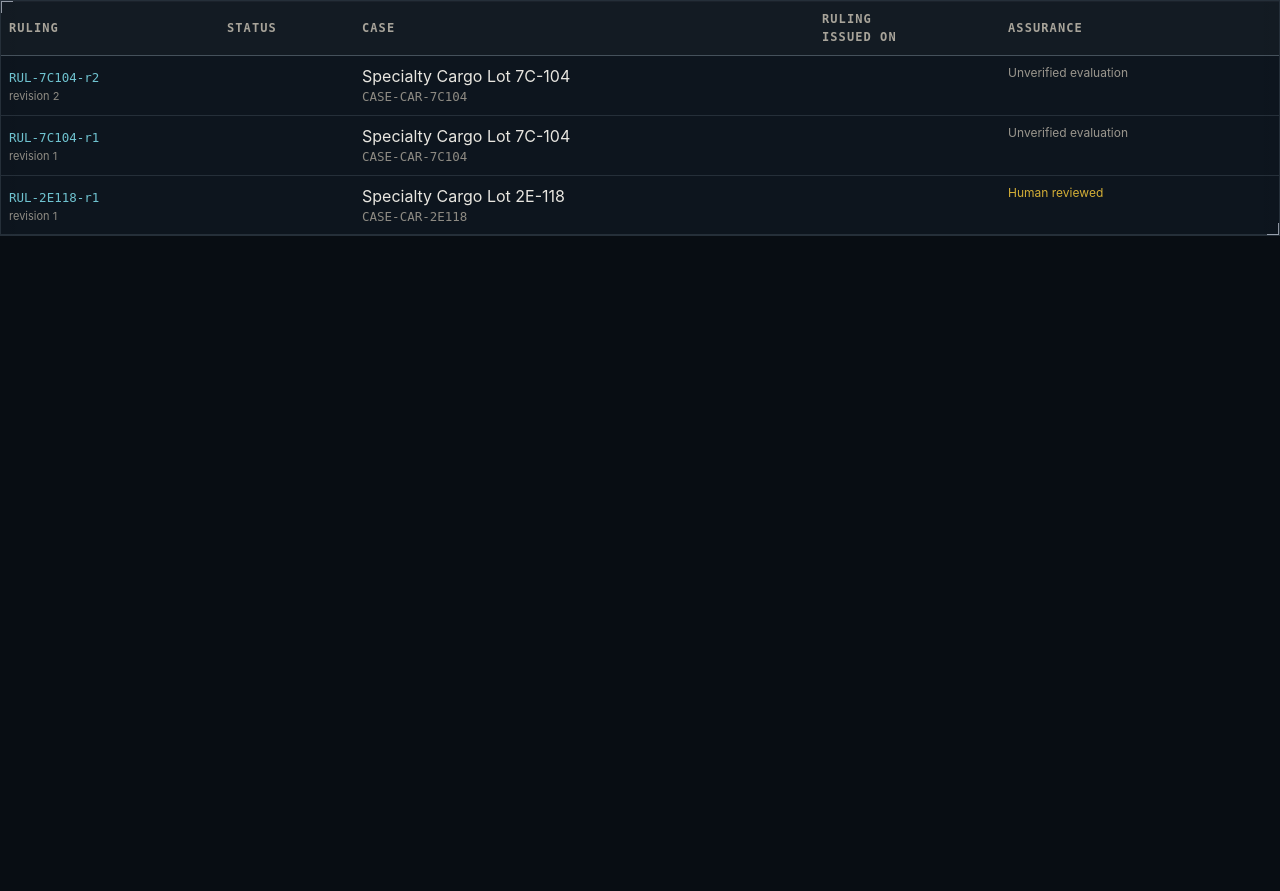
Test: one ruling, in context › carries the fields the table no longer does
Click the button "RUL-7C104-r1 revision 1": (110, 144) [9,124,211,164]
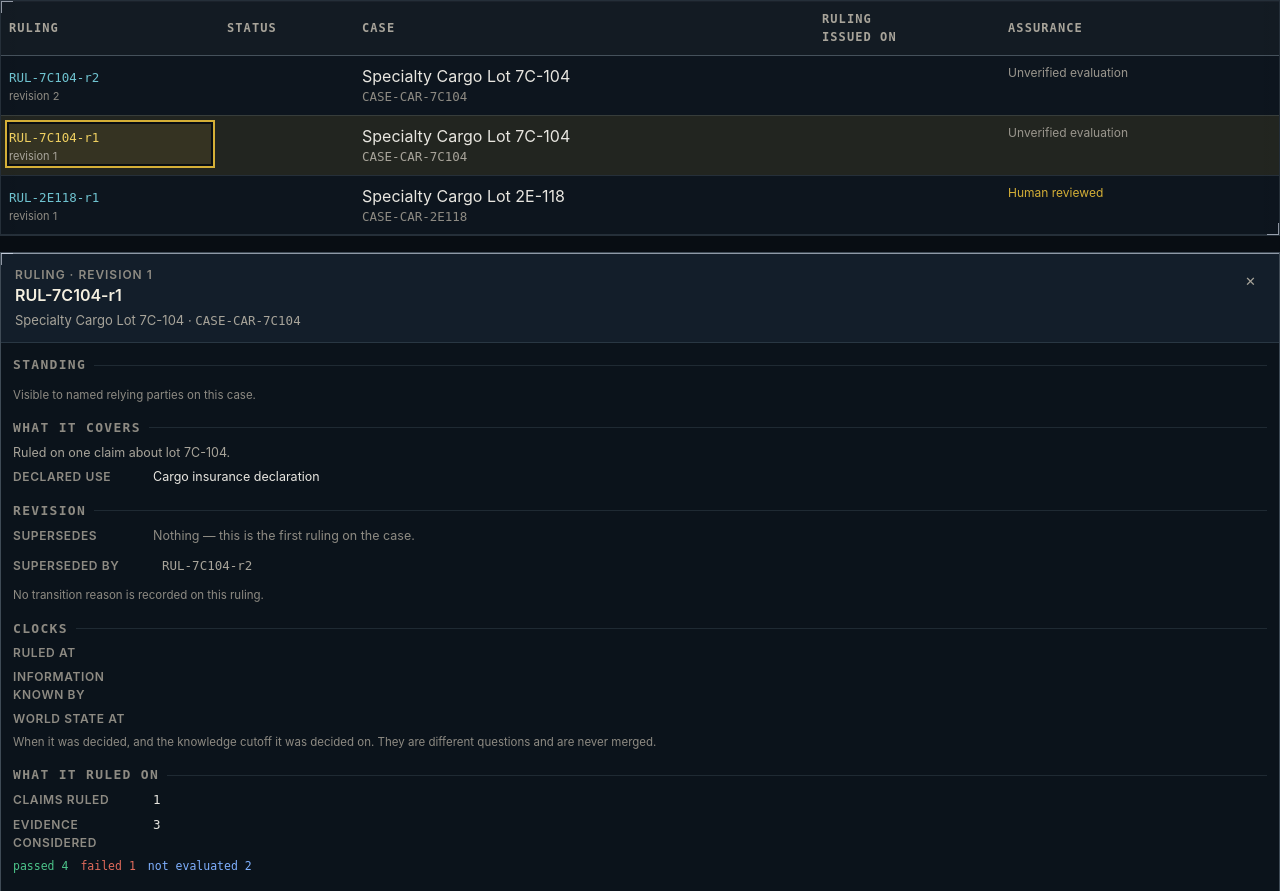
Expected: the element with test id "ruling-inspector" shows "Cargo insurance declaration", [153,469,320,484]
Expected: the element with test id "ruling-inspector" shows "Visible to named relying parties on this case.", [13,388,256,402]
Expected: the text with test id "inspector-claims" reads "1", [153,792,160,807]
